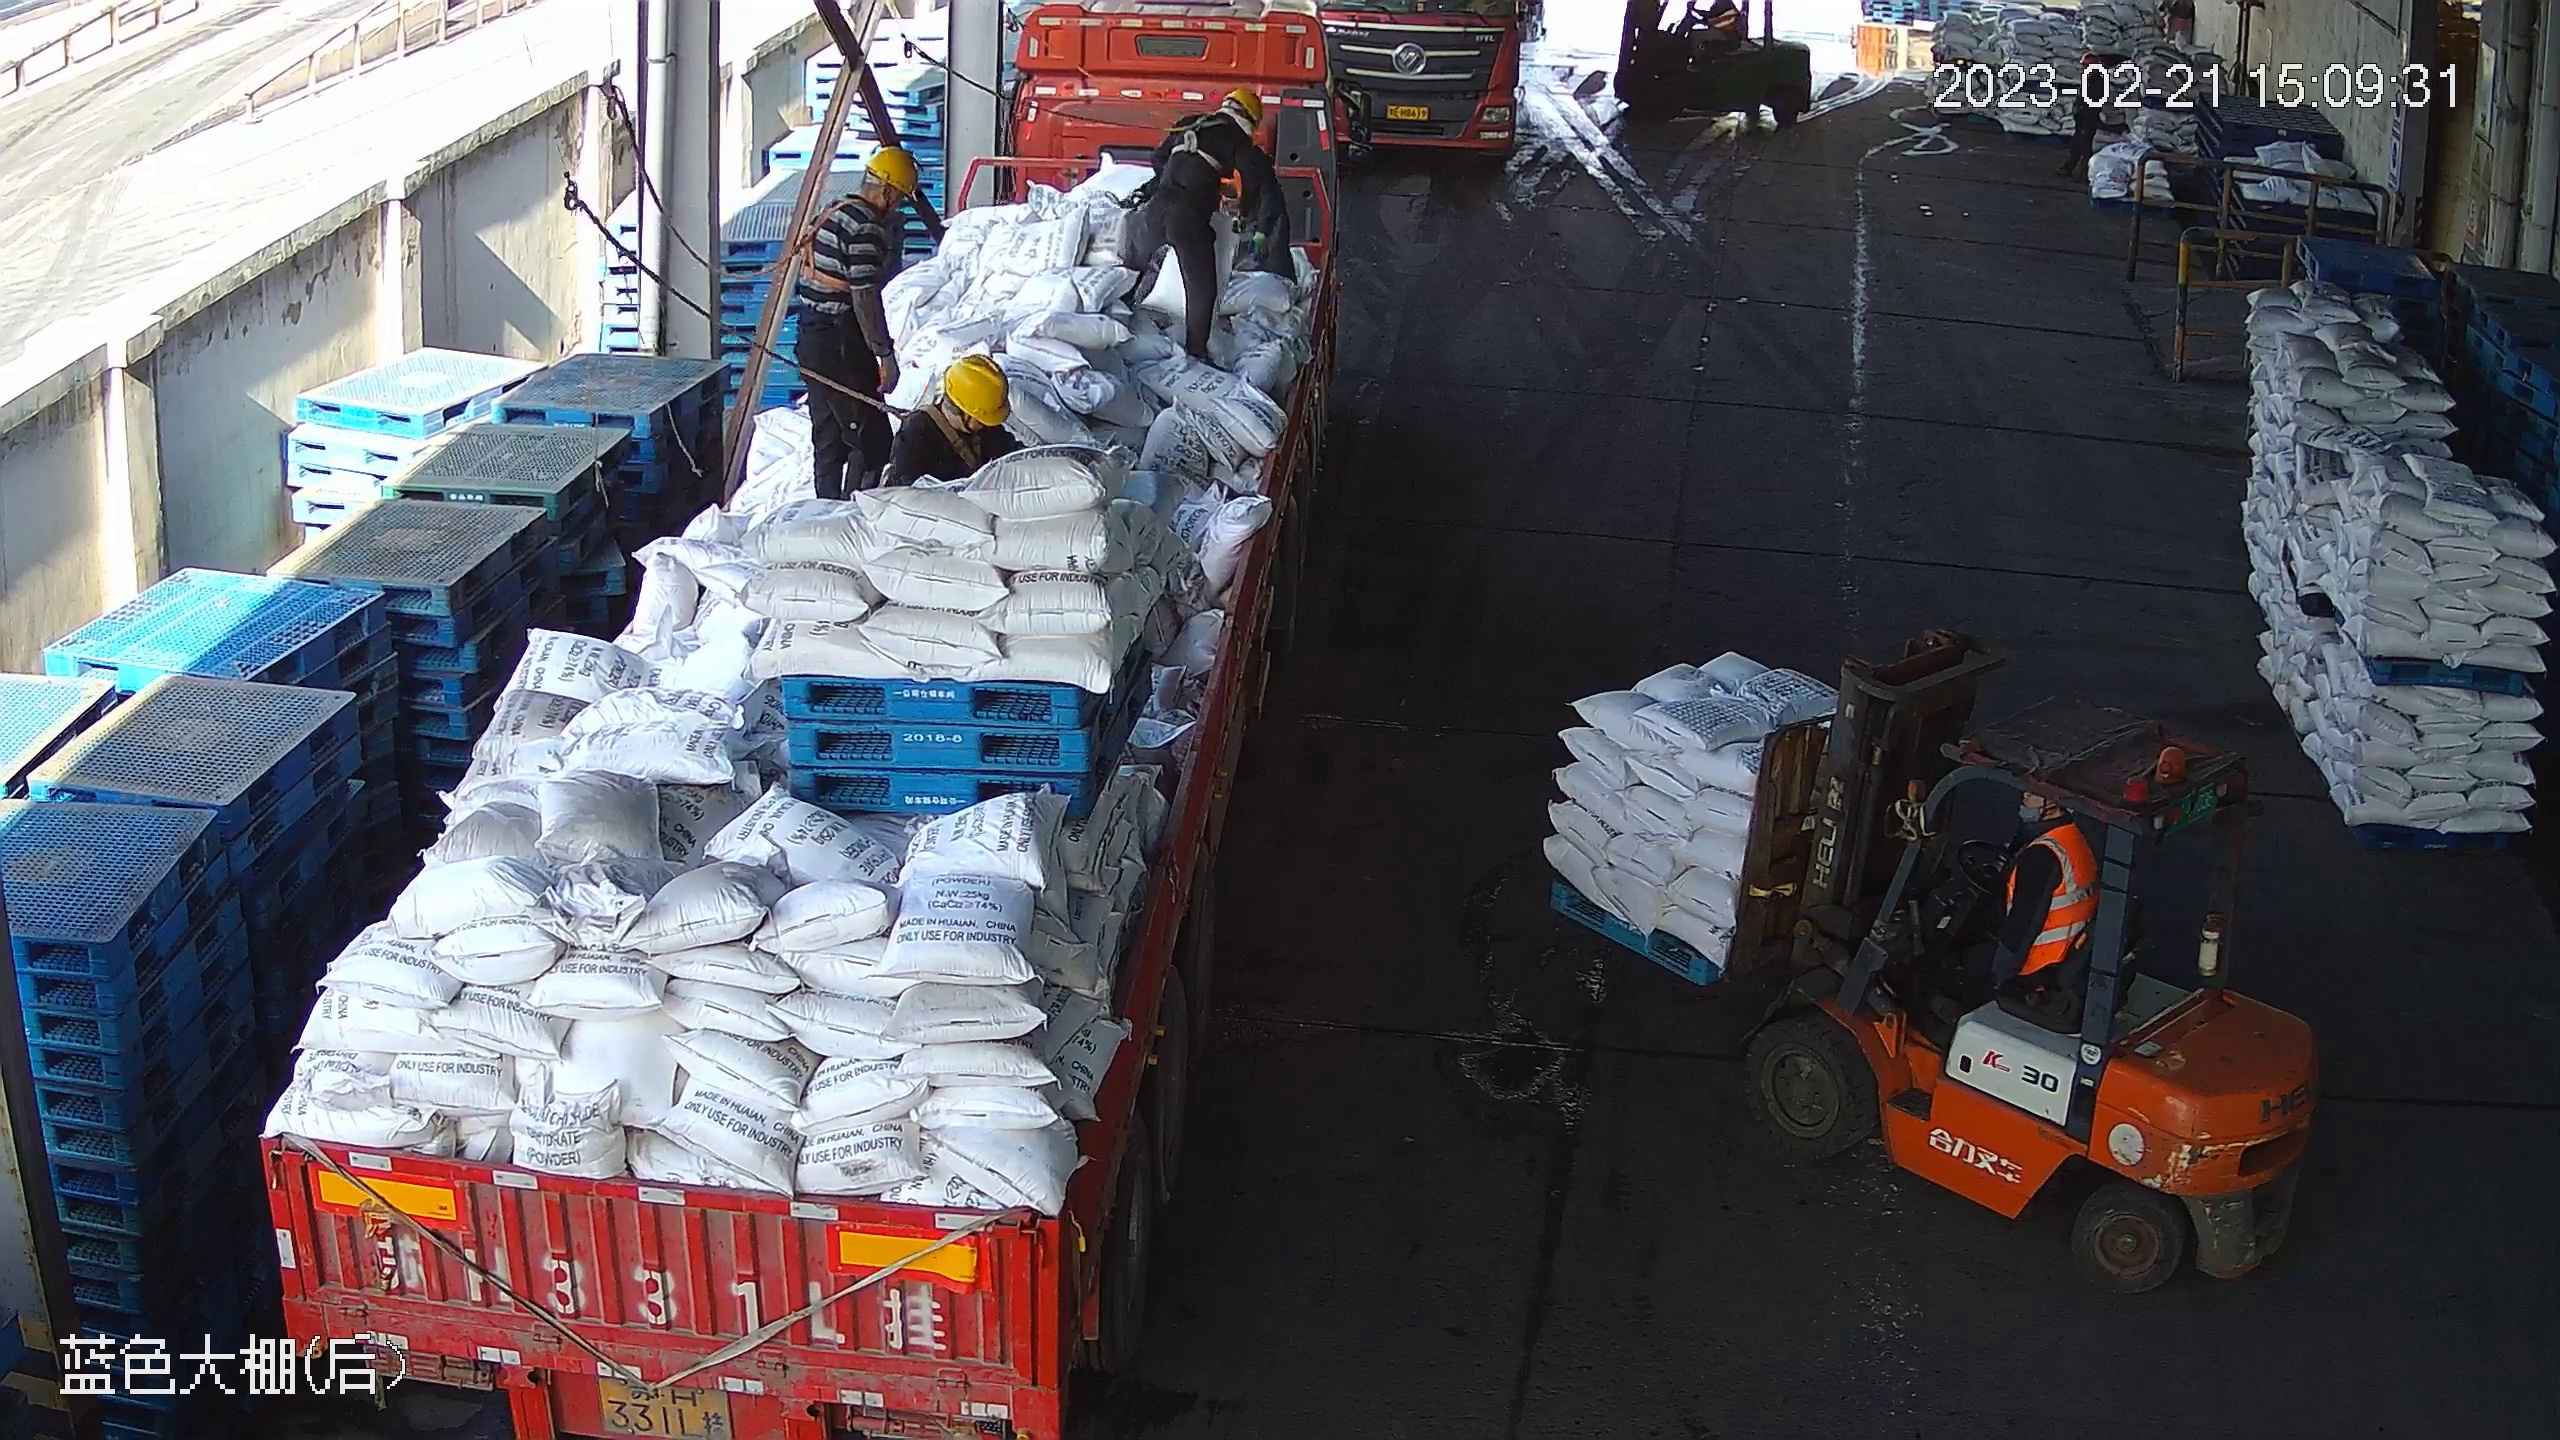belt: (876, 395, 987, 472), (785, 202, 863, 299), (1168, 106, 1231, 172)
head: (893, 355, 1023, 472), (816, 147, 918, 258), (1172, 93, 1262, 186)
helmet: (944, 354, 1013, 427), (862, 146, 919, 195), (1230, 88, 1259, 123), (2078, 53, 2099, 67)
people: (1882, 770, 2093, 1007), (789, 144, 918, 504), (1127, 85, 1261, 375), (2056, 53, 2110, 178)
truck: (249, 1, 1393, 1437), (1322, 1, 1543, 163)
